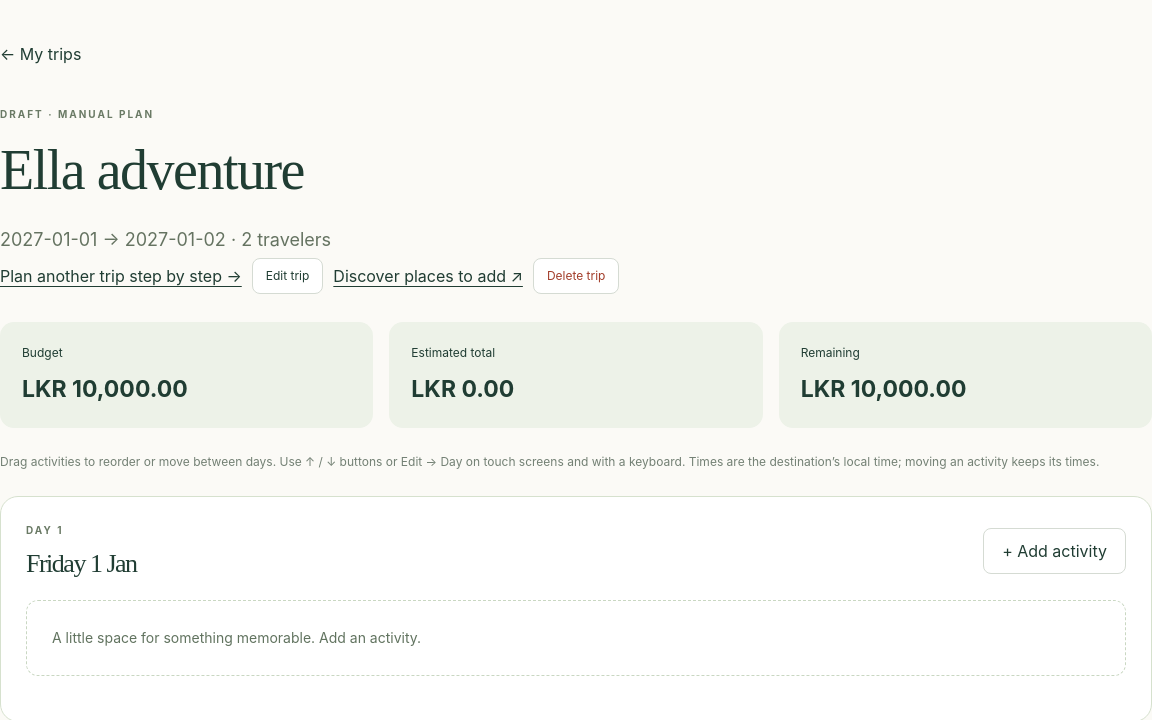
Test: manual trip scheduler › saves a custom activity and shows the saved timeline and budget
Expected: the heading "Ella adventure" is shown, [0, 139, 304, 201]
Click the button "+ Add activity" at x=1055, y=551, box [983, 528, 1126, 574]
(page scrolled)
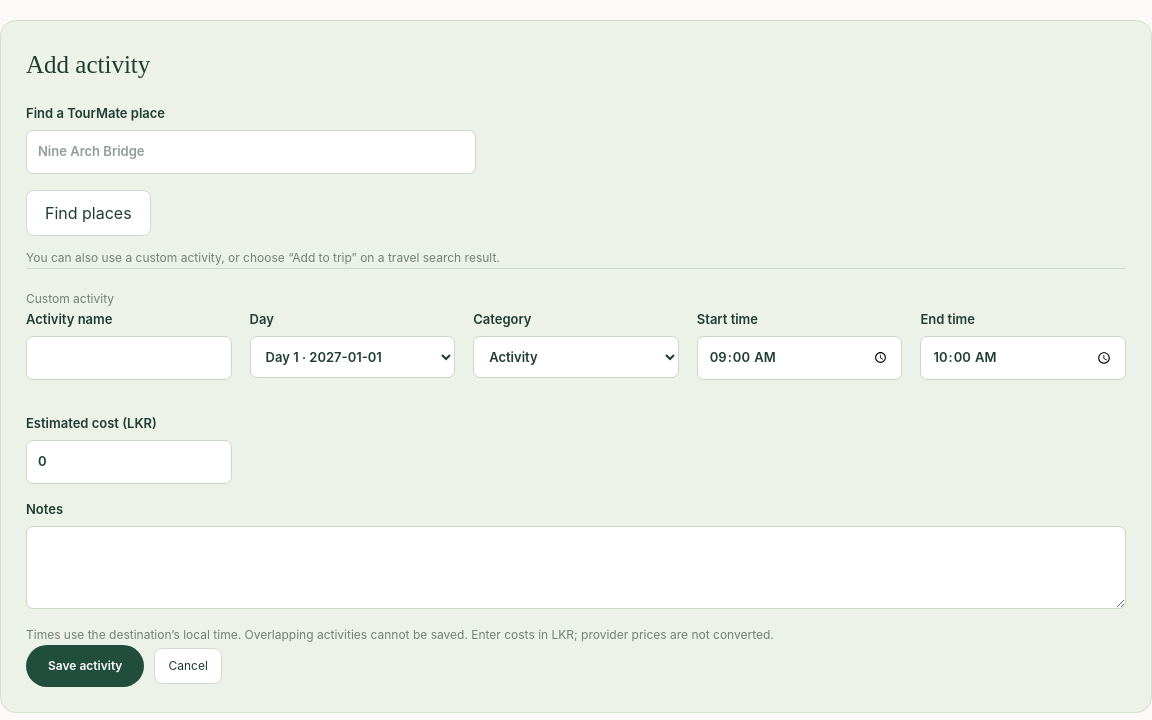
Type "Morning walk" into the field labelled "Activity name" at x=129, y=358, box [26, 336, 232, 380]
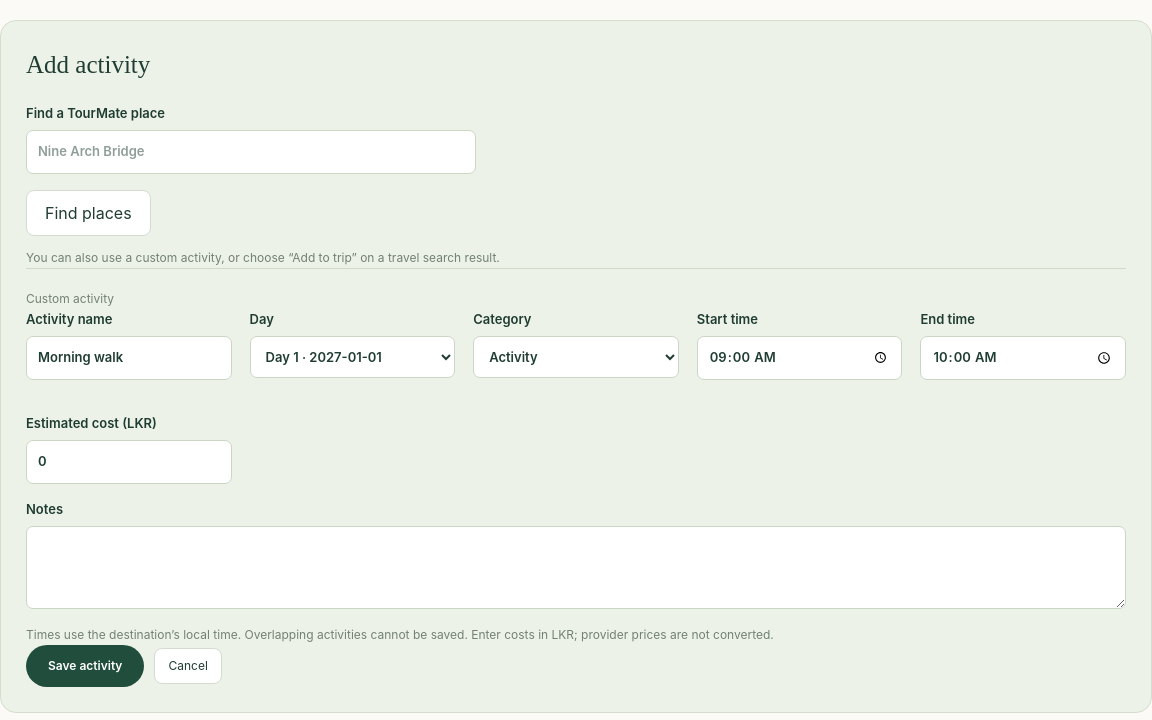
Replace the text in the number field labelled "Estimated cost (LKR)" with "500" at x=129, y=462, box [26, 440, 232, 484]
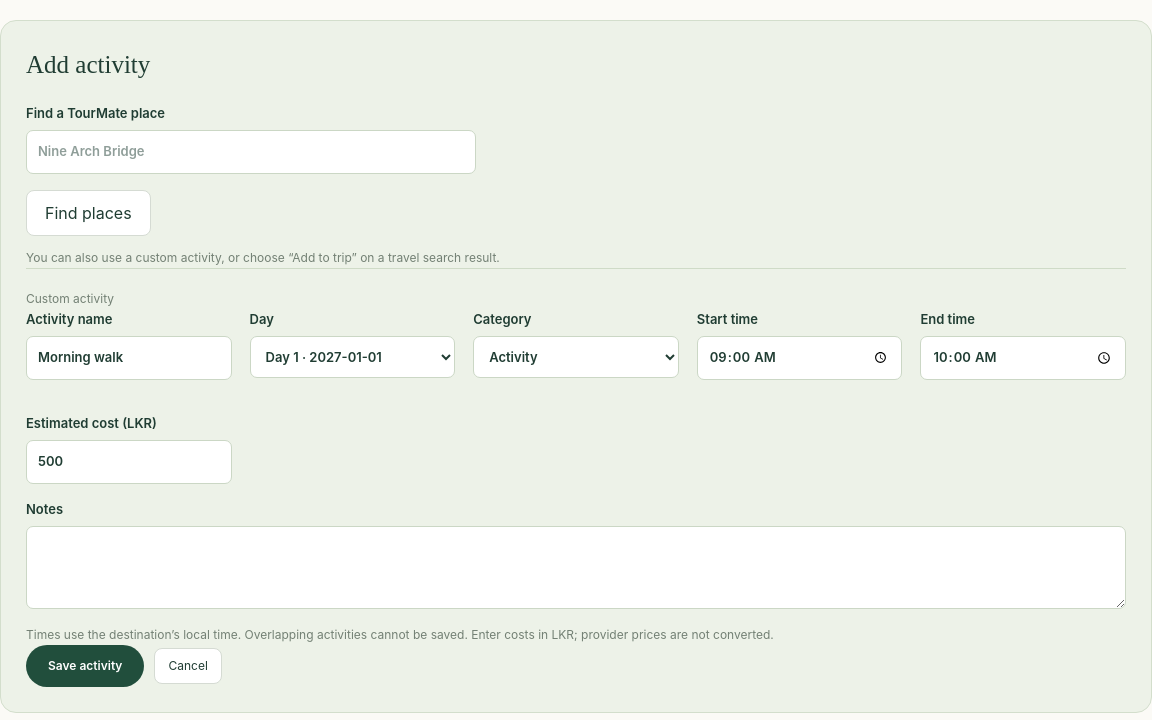
Type "Bring water" into the text box labelled "Notes" at x=576, y=568, box [26, 526, 1126, 609]
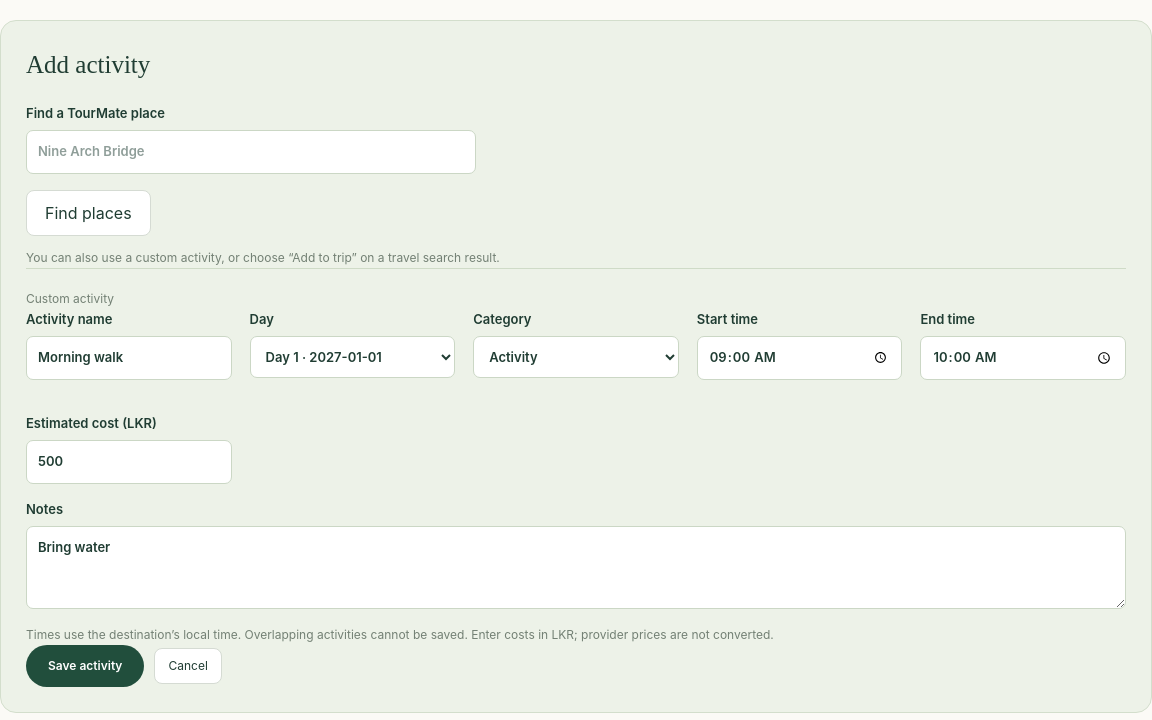
Click the button "Save activity" at x=85, y=666, box [26, 645, 144, 687]
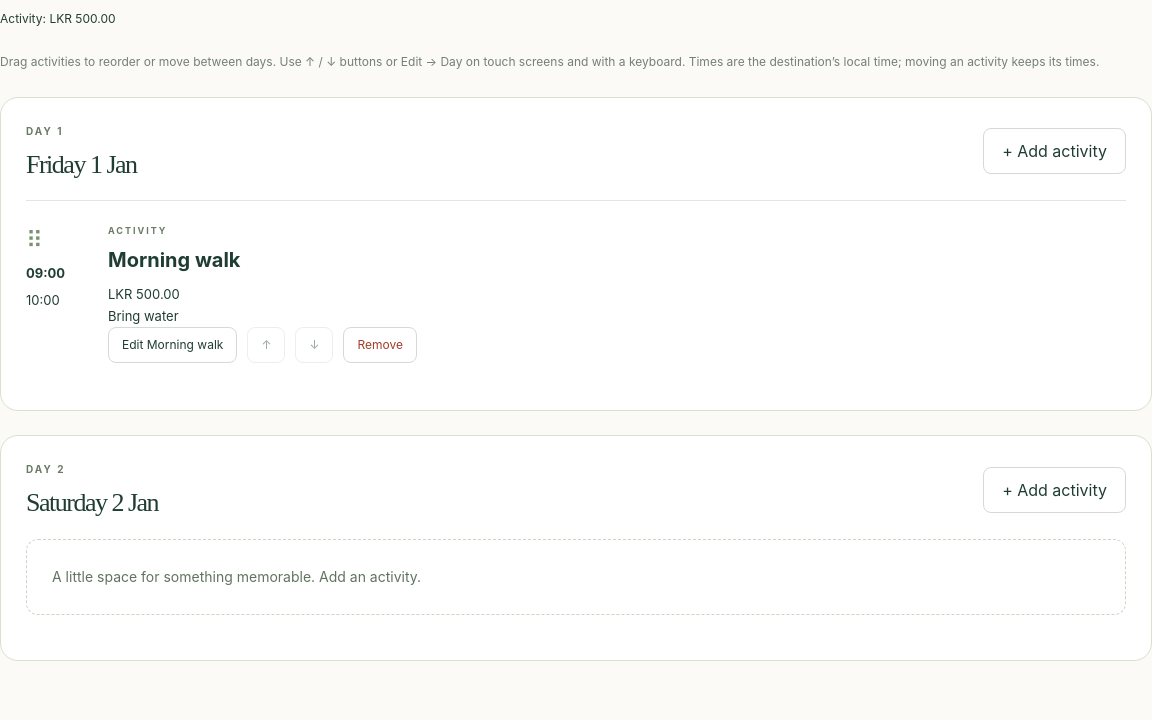
Expected: the heading "Morning walk" is shown, [108, 248, 240, 272]
Expected: the label labelled "Activity name" is gone
Expected: the text "Bring water" is shown, [108, 308, 178, 324]
